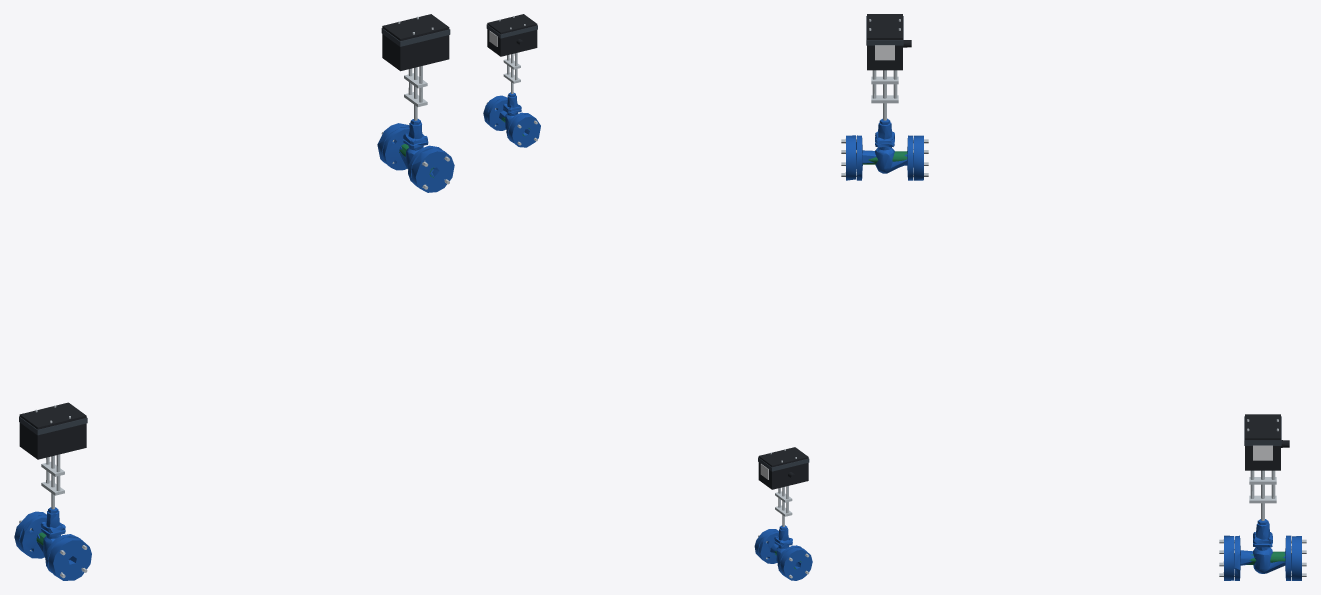
File: modulation.glb
3 views of the same model, side by side, from view 1: azimuth 30°, elevation 25°; view 2: azimuth 210°, elevation 25°; view 3: azimuth 270°, elevation 25° (orthographic). The views are drawn at different scales.
Visible parts, largest first — view 1: mod_eco_drive, mod_direct_drive, mod_eco, mod_direct; view 2: mod_direct_drive, mod_eco_drive, mod_eco, mod_direct; view 3: mod_direct_drive, mod_eco_drive, mod_eco, mod_direct.
Boxes of the visible parts, box(x1,y1,x2,y2) form: mod_eco_drive: box(19, 402, 87, 509); mod_direct_drive: box(381, 14, 450, 120); mod_eco: box(14, 507, 91, 580); mod_direct: box(377, 119, 454, 192); mod_direct_drive: box(486, 14, 537, 93); mod_eco_drive: box(758, 447, 809, 526); mod_eco: box(754, 525, 812, 580); mod_direct: box(483, 92, 540, 147); mod_direct_drive: box(866, 14, 911, 120); mod_eco_drive: box(1244, 414, 1289, 520); mod_eco: box(1219, 519, 1306, 580); mod_direct: box(841, 118, 928, 180).
Size of the model in its own units: 0.806 by 2.18 by 1.44.
